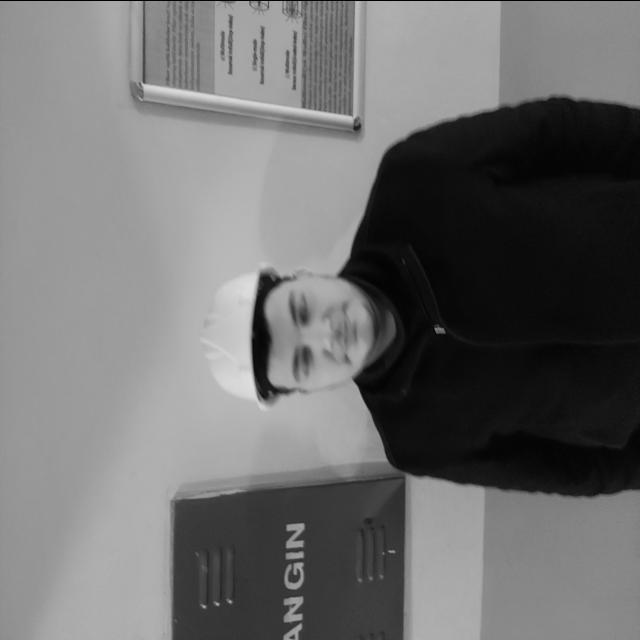safety_helmet: (203, 265, 296, 407)
